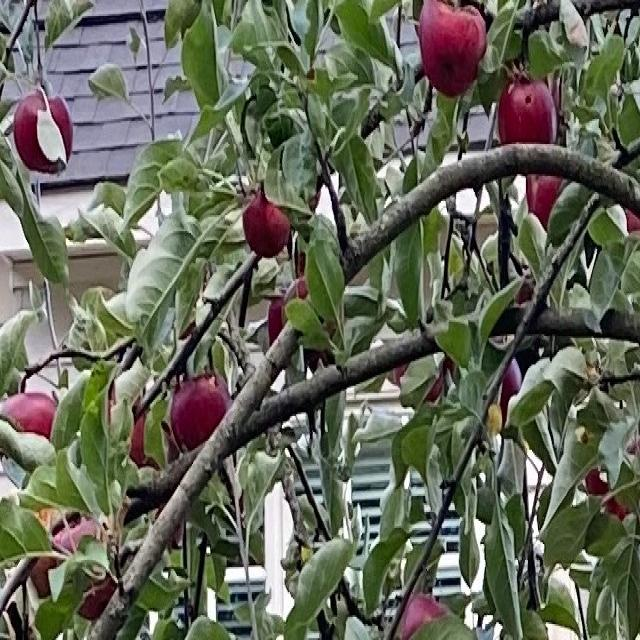100-_ripeness: (420, 0, 485, 94), (171, 371, 229, 457), (65, 524, 114, 614), (17, 96, 72, 172), (587, 439, 639, 519), (499, 77, 554, 151), (245, 190, 288, 256), (1, 390, 58, 438), (394, 348, 445, 398), (527, 172, 565, 228), (129, 405, 160, 466), (405, 595, 447, 640), (498, 358, 522, 420), (269, 290, 285, 346)
